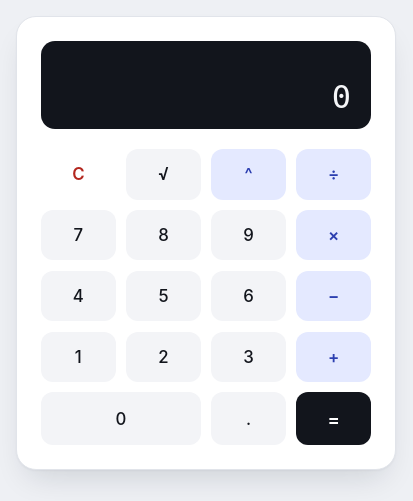
it: Calculator › performs an addition end-to-end through the UI
The width and height of the screenshot is (413, 501).
Click the button "4" at (78, 296), box [41,271,116,321]
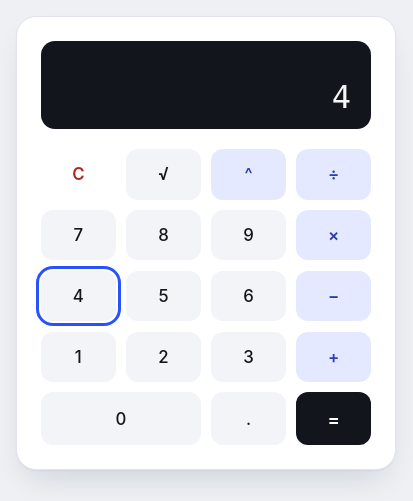
Click the button "+" at (334, 357), box [296,332,371,382]
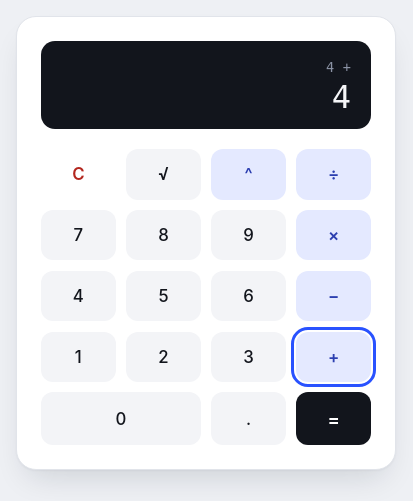
Click the button "3" at (249, 357), box [211,332,286,382]
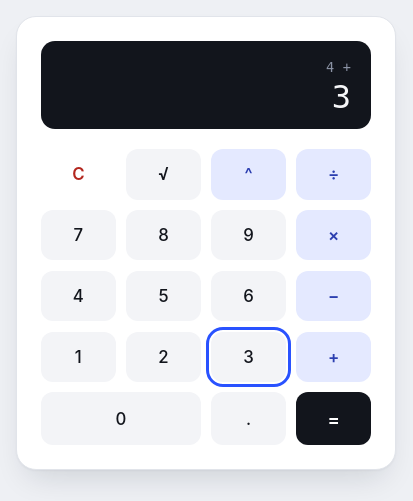
Click the button named "equals" at (334, 418), box [296,392,371,445]
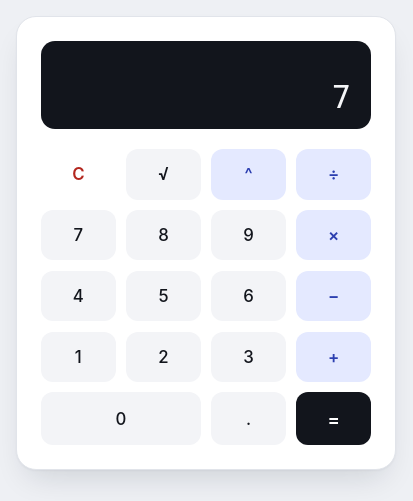
expect the text with test id "display-value" reads "7": met, box [332,78,351,116]
